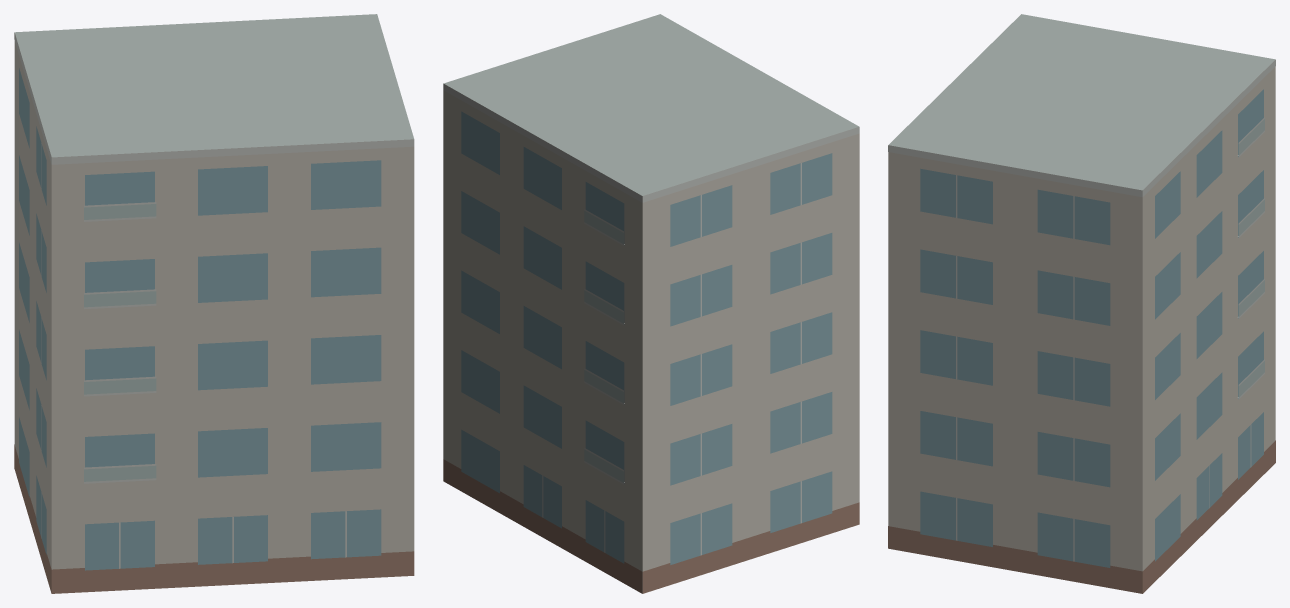
Rendered from survey-upis-32931985.glb.
3 views of the same model, side by side, from view 1: azimuth 30°, elevation 25°; view 2: azimuth 150°, elevation 25°; view 3: azimuth 270°, elevation 25° (orthographic). The views are drawn at different scales.
Parts seen in each view (by area): view 1: survey-upis-32931985.tmp; view 2: survey-upis-32931985.tmp; view 3: survey-upis-32931985.tmp.
Part boxes in pixels (bbox=[...]): survey-upis-32931985.tmp: bbox=[14, 14, 414, 593]; survey-upis-32931985.tmp: bbox=[443, 14, 859, 593]; survey-upis-32931985.tmp: bbox=[888, 14, 1275, 593].
Size of the model in its own units: 13.51 by 14.4 by 12.55.
